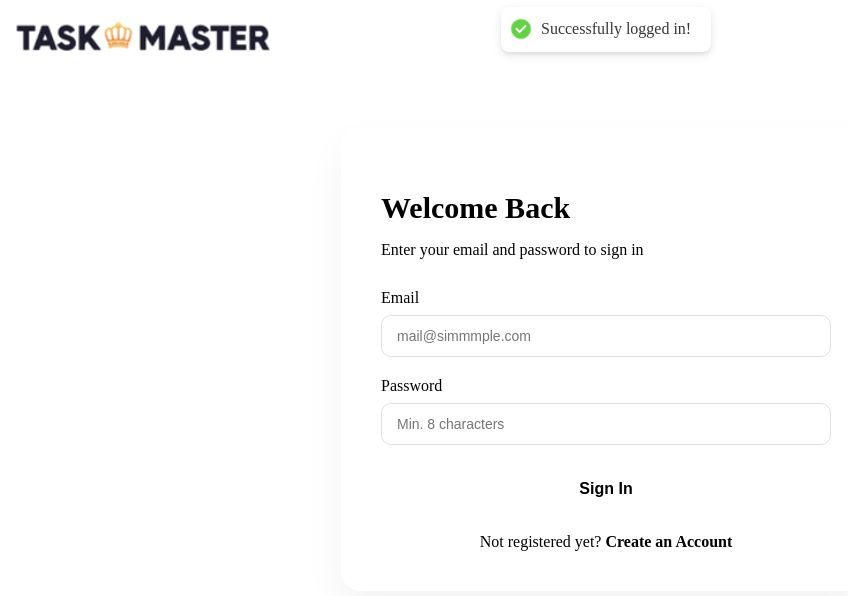
Test: LoginPage › handles login error
Type "wrong@example.com" into the field with placeholder "mail@simmmple.com" at [606, 336], box [381,315,831,357]
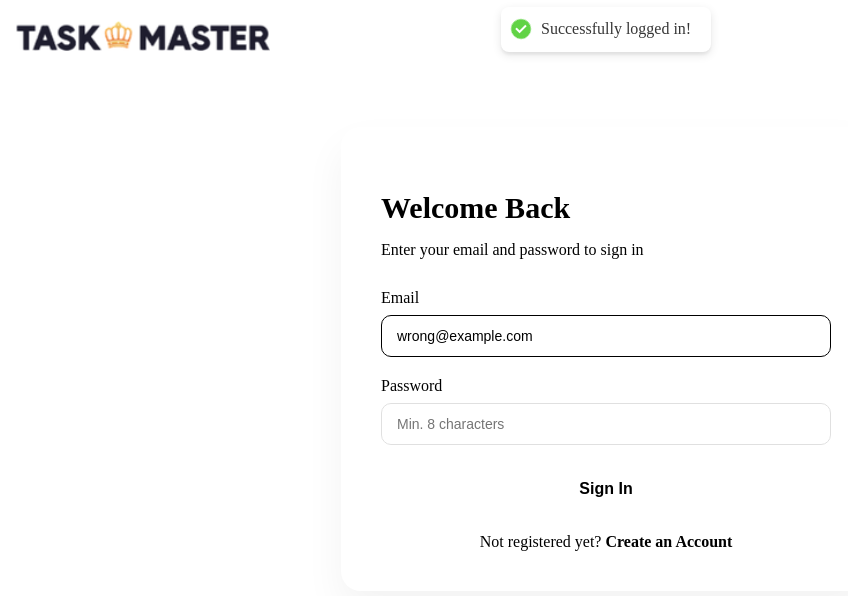
Type "wrongpass" into the password field with placeholder "Min. 8 characters" at [606, 424], box [381,403,831,445]
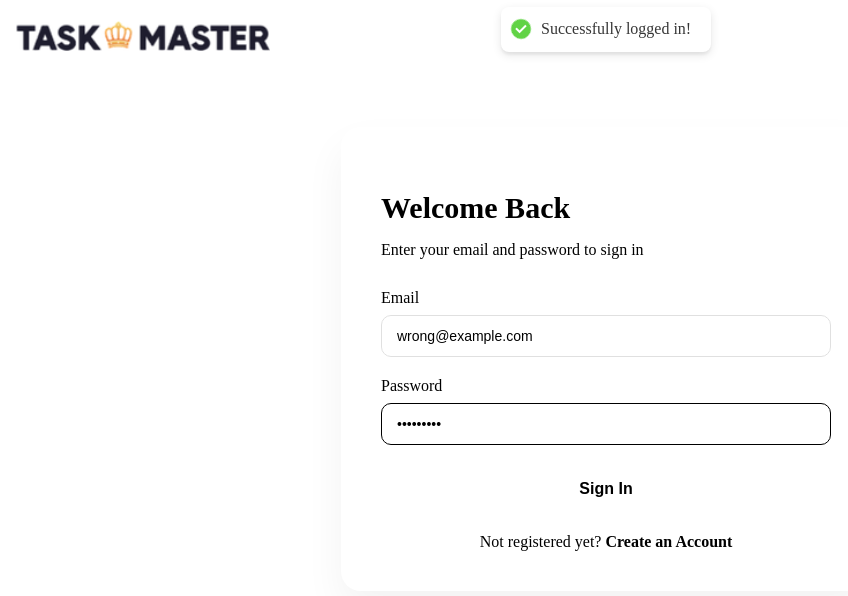
Click the submit button at [606, 489], box [381,465,831,513]
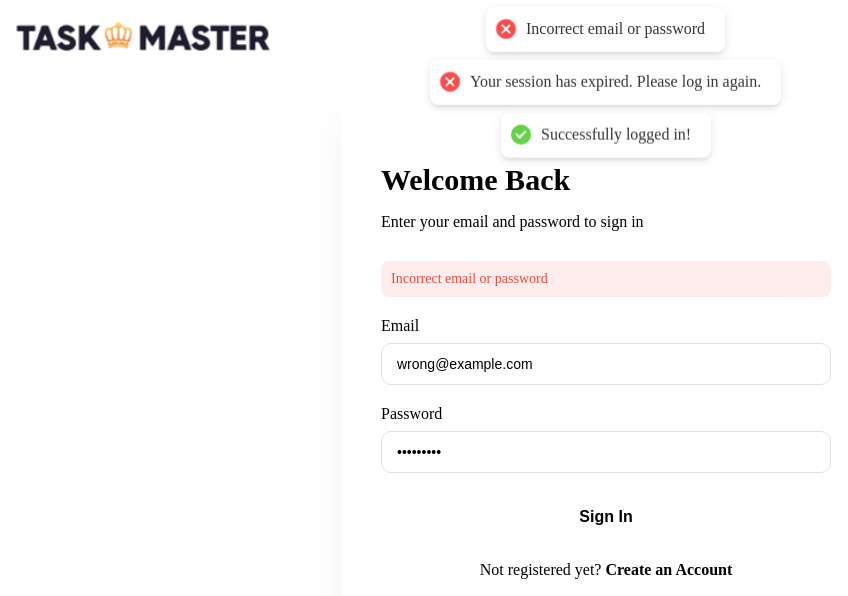
Check: the text "Incorrect email or password" is shown, box [381,261,831,297]
